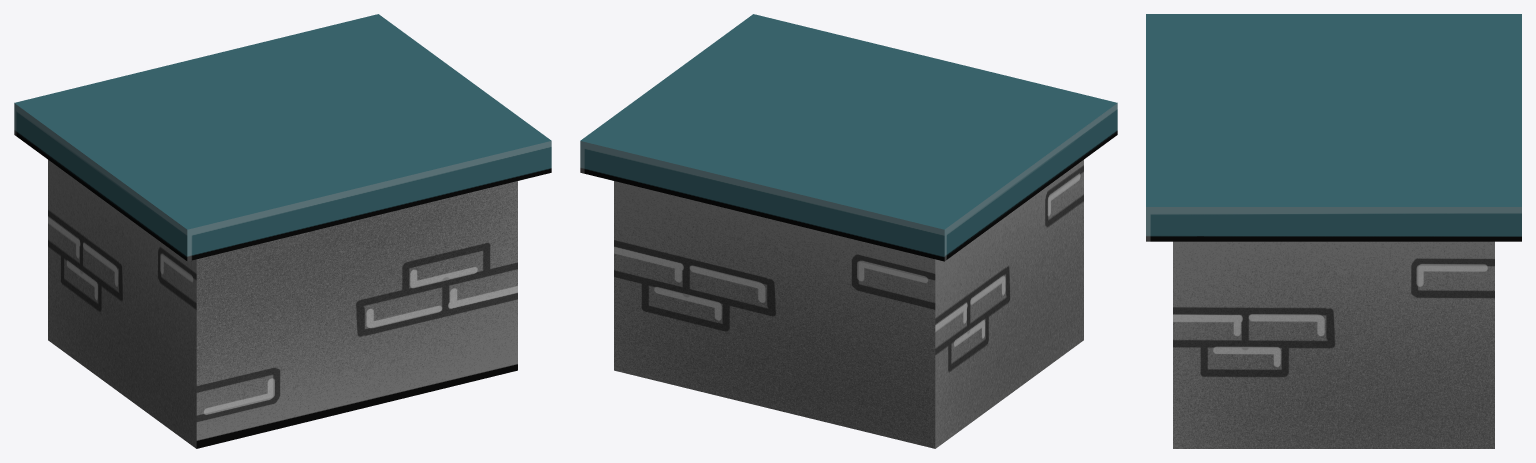
Rendered from Platform.FBX.
3 renders of one model, left to right at view 1: azimuth 30°, elevation 25°; view 2: azimuth 150°, elevation 25°; view 3: azimuth 270°, elevation 25°, orthographic. The views are drawn at different scales.
Parts seen in each view (by area): view 1: Box001; view 2: Box001; view 3: Box001.
Boxes of the visible parts, x1,y1,x2,y2 form: Box001: (14, 14, 551, 448); Box001: (580, 14, 1117, 448); Box001: (1146, 14, 1521, 448).
Bounding box in the file's own units: 56.7 × 34.74 × 46.7.
Materials: 1 (1 with a texture image).
